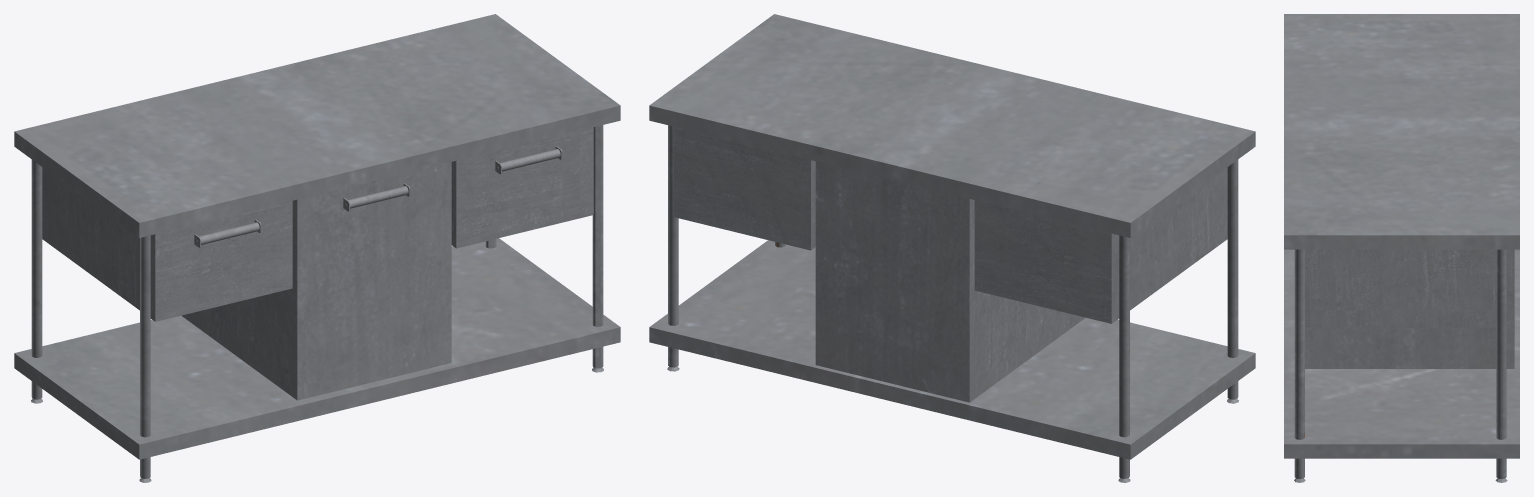
Rendered from BJW_KitchenBench_w-draws_large-medium.fbx.
3 views of the same model, side by side, from view 1: azimuth 30°, elevation 25°; view 2: azimuth 150°, elevation 25°; view 3: azimuth 270°, elevation 25° (orthographic). The views are drawn at different scales.
Visible parts, largest first — view 1: KitchenBench_w_dreaws_large_medium; view 2: KitchenBench_w_dreaws_large_medium; view 3: KitchenBench_w_dreaws_large_medium.
Boxes of the visible parts, bbox=[...] form: KitchenBench_w_dreaws_large_medium: bbox=[14, 14, 620, 482]; KitchenBench_w_dreaws_large_medium: bbox=[649, 14, 1255, 482]; KitchenBench_w_dreaws_large_medium: bbox=[1284, 14, 1519, 482].
Size of the model in its own units: 200 by 106 by 90.
